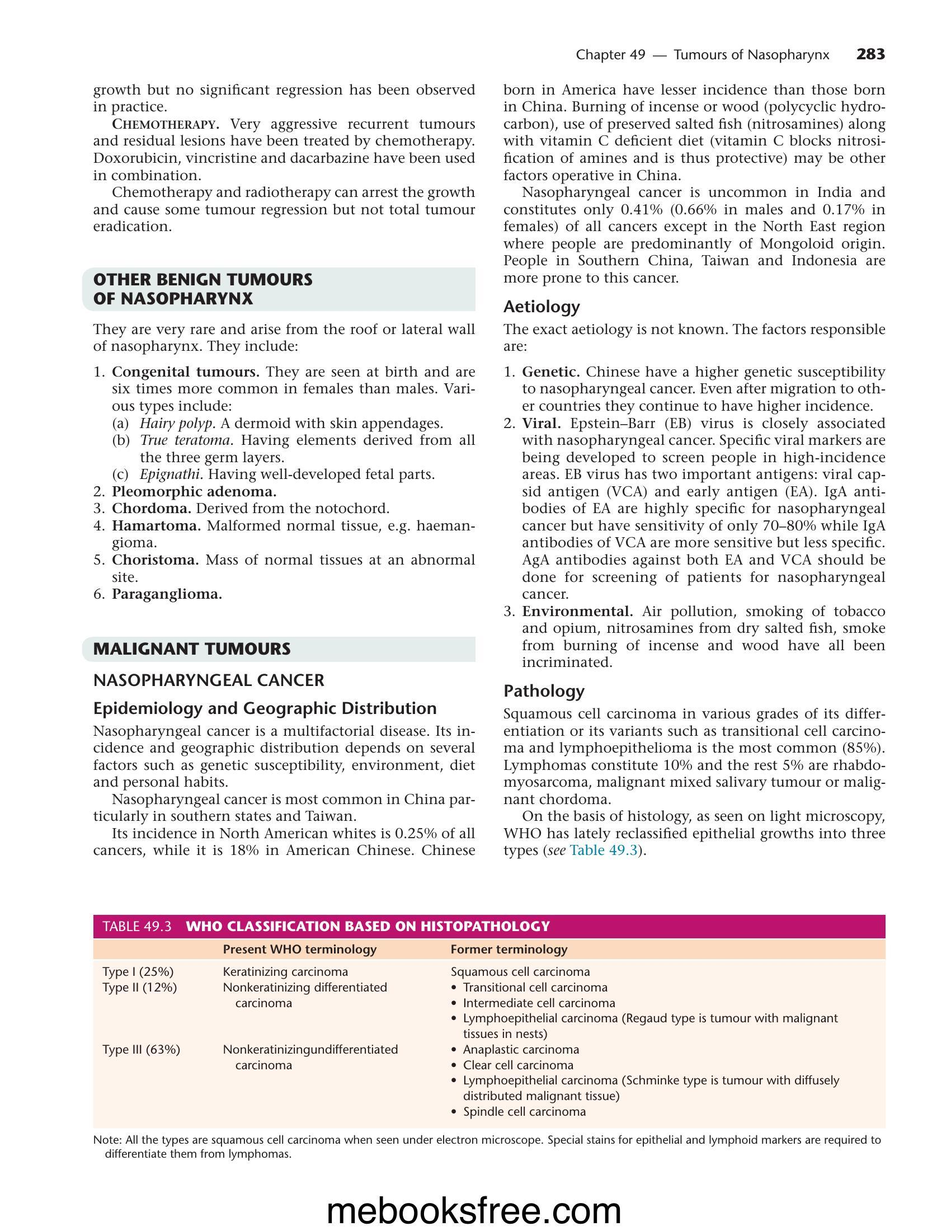caption: (100, 918, 551, 933)
header: (574, 47, 831, 64)
list: (502, 363, 891, 669), (92, 364, 477, 604)
section-heading: (92, 271, 314, 307), (92, 640, 293, 657)
sub-section-heading: (92, 698, 439, 721), (92, 671, 326, 689), (501, 682, 587, 701), (502, 298, 582, 318)
table: (92, 937, 884, 1163)
text: (502, 82, 886, 287), (502, 706, 886, 860), (93, 82, 477, 233), (92, 723, 477, 857), (92, 322, 474, 355), (502, 321, 886, 353)
